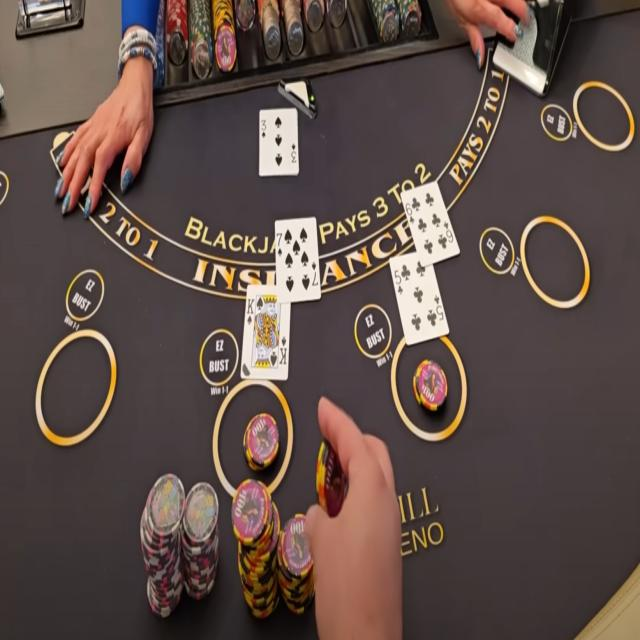3: (260, 117, 267, 132)
5: (394, 267, 402, 286)
6: (404, 200, 413, 216)
7: (276, 230, 282, 247)
K: (247, 296, 255, 316)
